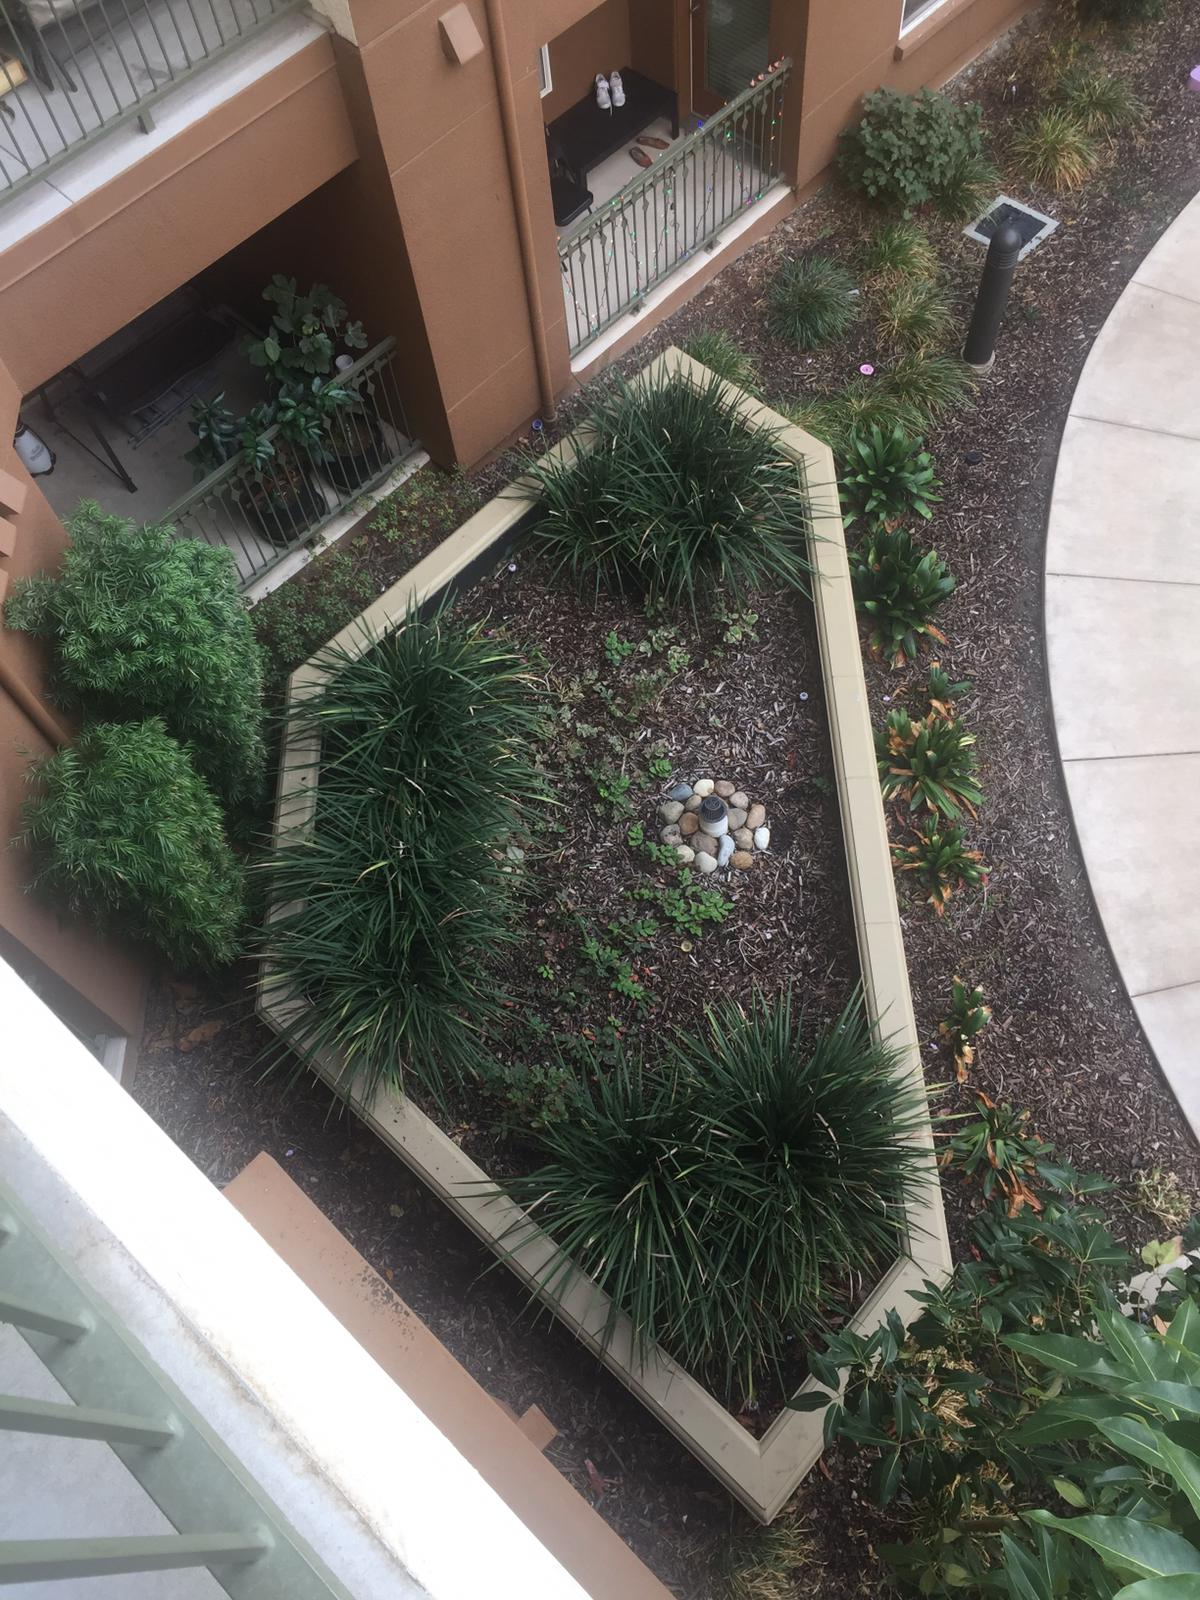plants: (557, 1060, 874, 1361), (879, 1305, 1200, 1597), (309, 625, 508, 1026), (57, 556, 263, 925), (567, 404, 802, 609), (940, 1112, 1143, 1318), (850, 428, 971, 625), (897, 708, 984, 901), (260, 263, 353, 408), (857, 112, 971, 222), (1015, 122, 1105, 191), (774, 273, 860, 343)
